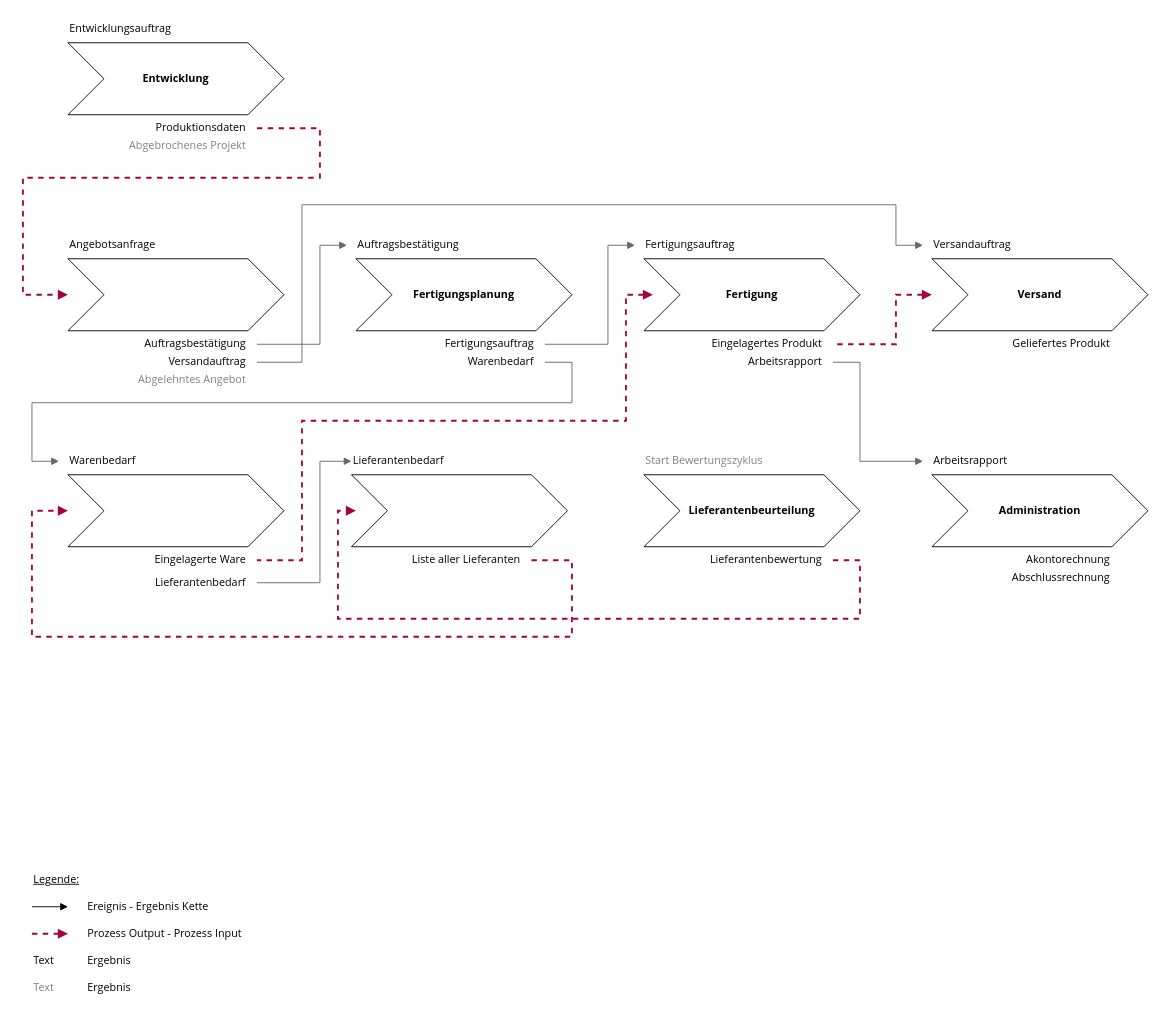
Some shapes in this 1164 by 1016 pixel diagram are drawn without their labels. Here are the shapes that lost their labels. From the top down, the centre of each, then its label:
pixel 175 294: Kundenanfrage
pixel 175 510: Beschaffung
pixel 459 510: Lieferantenauswahl
